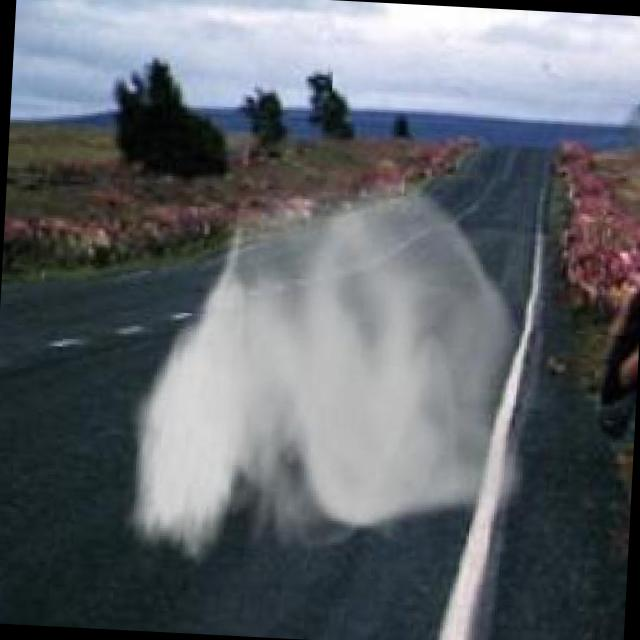Smoke: (122, 157, 540, 585)
